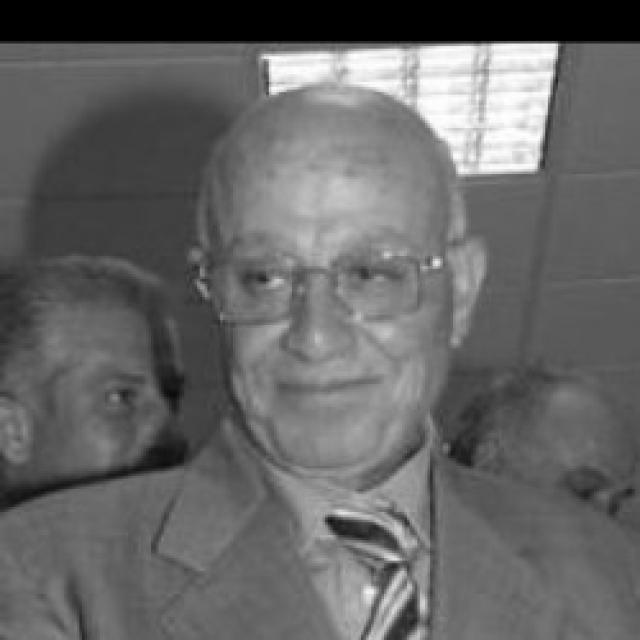real: (205, 85, 461, 481), (236, 259, 418, 310)
